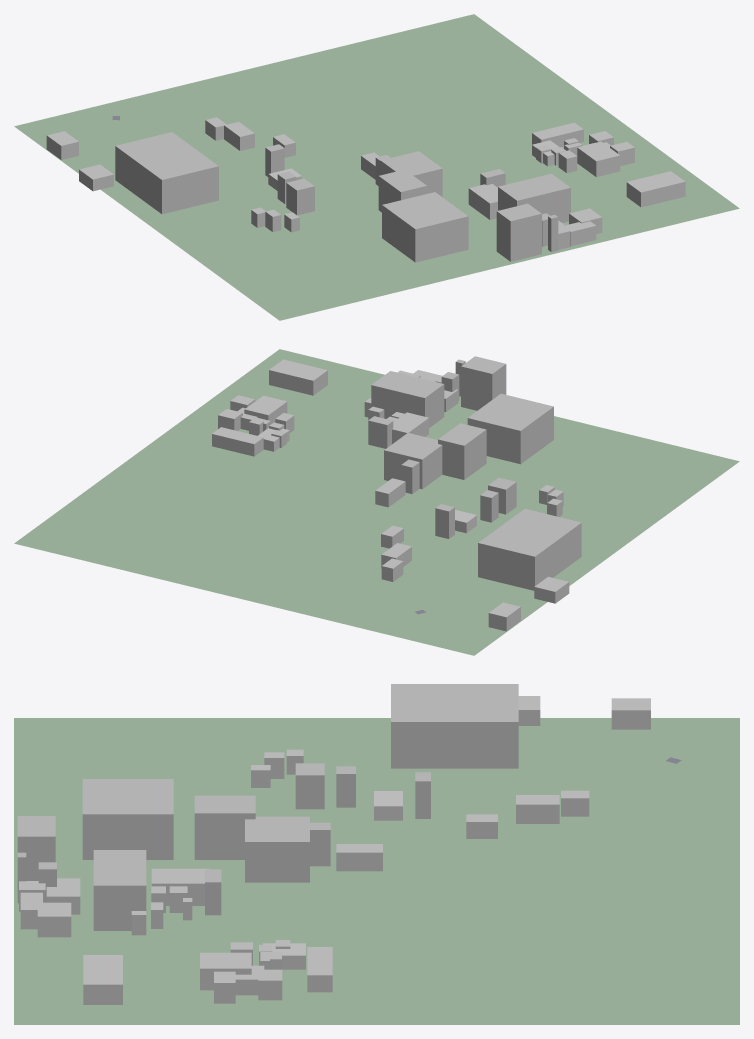
File: 137_81_mid.glb
3 views of the same model, one above another, from view 1: azimuth 30°, elevation 25°; view 2: azimuth 150°, elevation 25°; view 3: azimuth 270°, elevation 25° (orthographic). The views are drawn at different scales.
Bounding box in the file's own units: 509 × 43.49 × 500.
